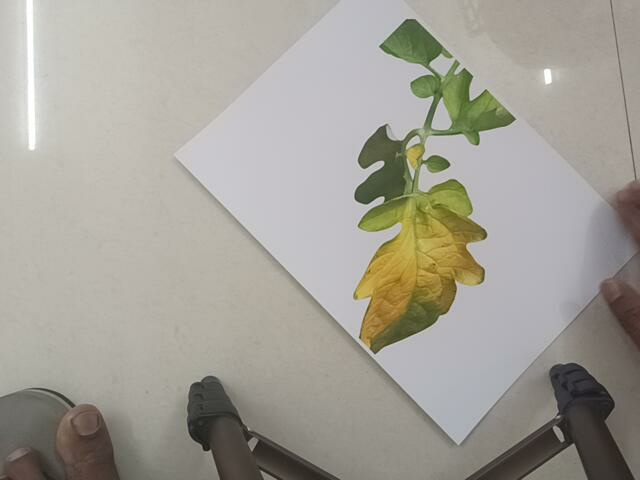Tomamto_Yellow_Disease: (347, 19, 511, 351)
